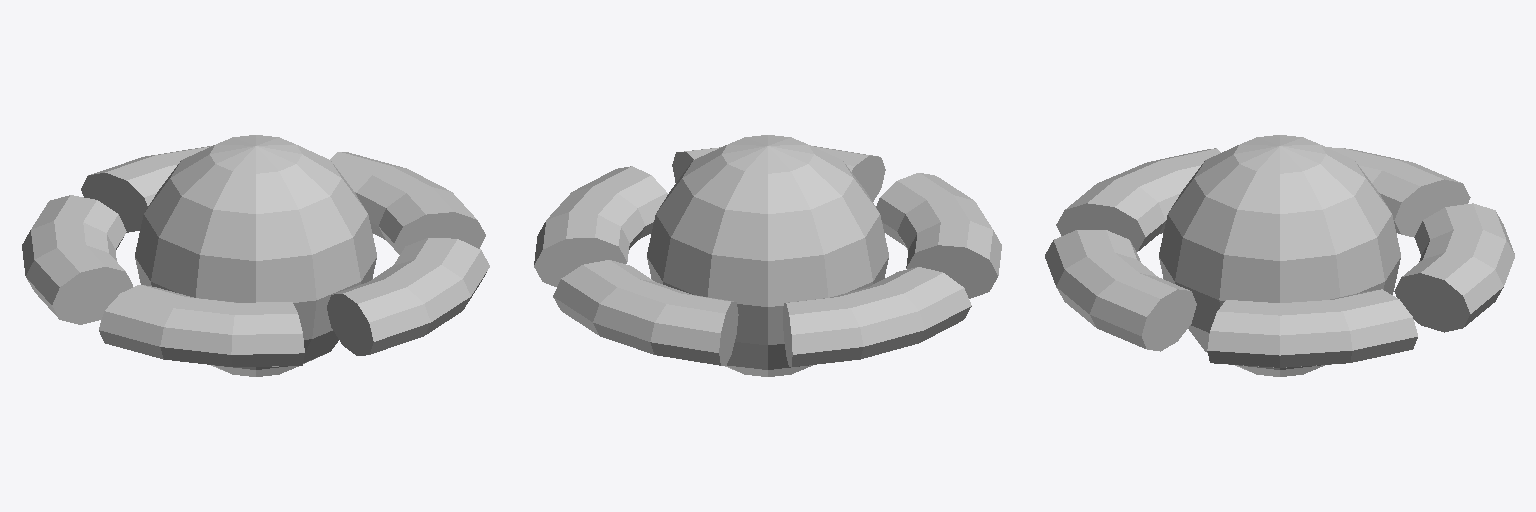
The model's file is SpreadShot.obj.
The picture shows the model from 3 angles: view 1: azimuth 30°, elevation 25°; view 2: azimuth 150°, elevation 25°; view 3: azimuth 270°, elevation 25°; orthographic projection.
Visible parts, largest first — view 1: Torus.001; view 2: Torus.001; view 3: Torus.001.
Part boxes in pixels (x1,y1,x2,y2): Torus.001: (22,135,489,376); Torus.001: (534,135,1001,376); Torus.001: (1045,135,1514,376).
Bounding box in the file's own units: 3.88 × 2 × 3.88.